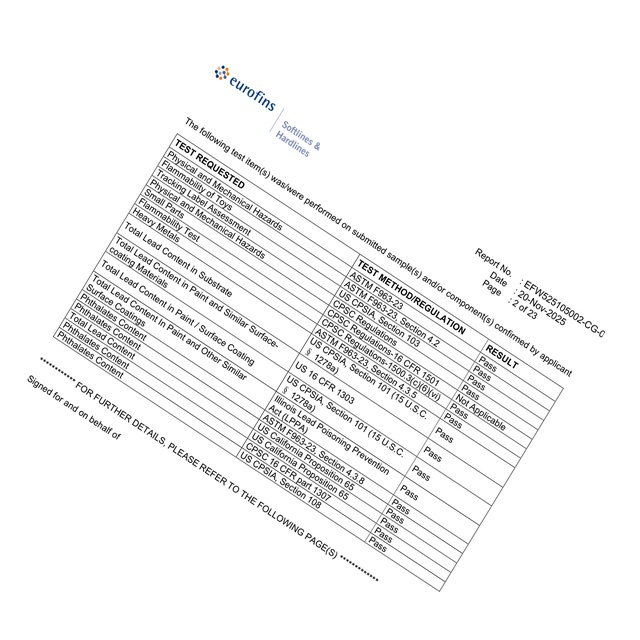eurofins: (210, 60, 278, 113)
